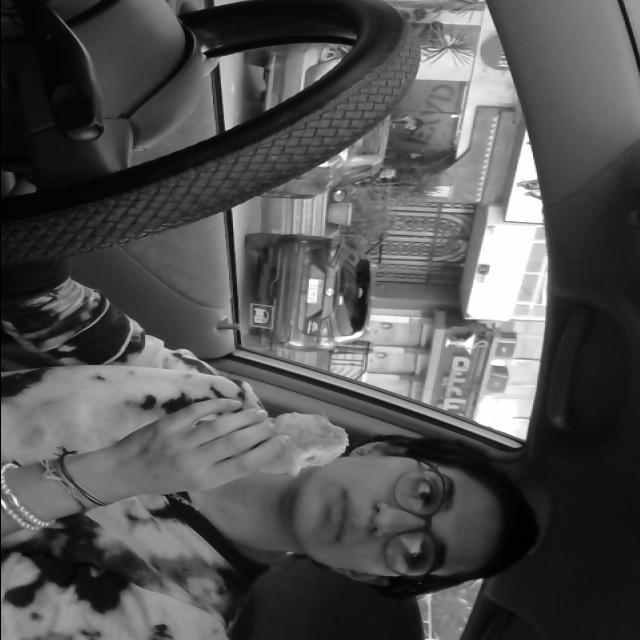eating: (246, 409, 352, 479)
